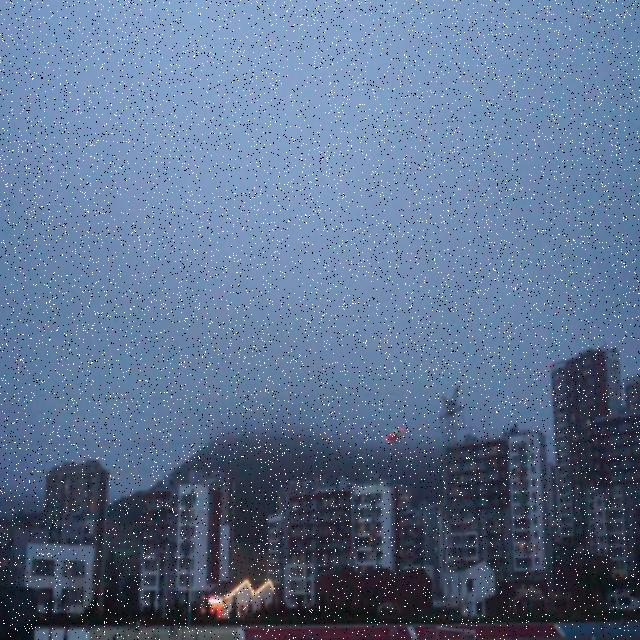UAV: (381, 427, 404, 446)
